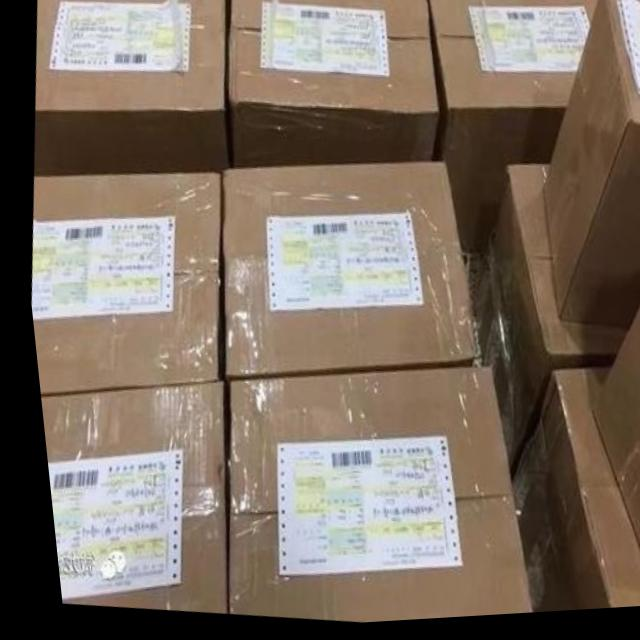box: (216, 371, 519, 625), (218, 168, 469, 380), (463, 170, 618, 478), (426, 0, 595, 259), (26, 174, 218, 394), (32, 382, 215, 612), (224, 0, 434, 169), (499, 370, 640, 618), (538, 6, 640, 337), (31, 0, 223, 175), (581, 298, 640, 595)
